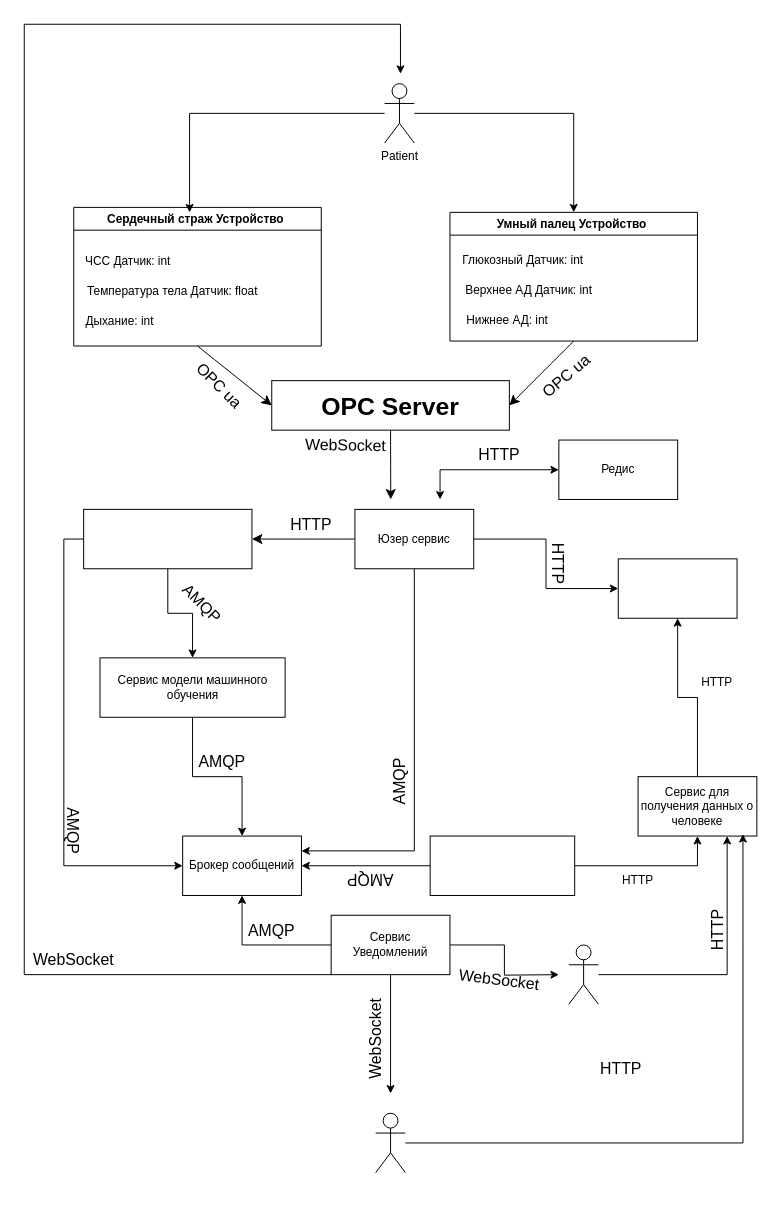
The diagram is 774 pixels wide and 1211 high, and some of its shapes have lost their labels. Here are the shapes that lost their labels. From the top down, the box of each, then its label:
(83, 508, 252, 569): Сервис принятия решений
(617, 558, 737, 618): БД
(429, 835, 575, 895): Сервис вызова скорой помощи
(568, 944, 598, 1004): Doctor
(375, 1112, 405, 1173): Nurse
